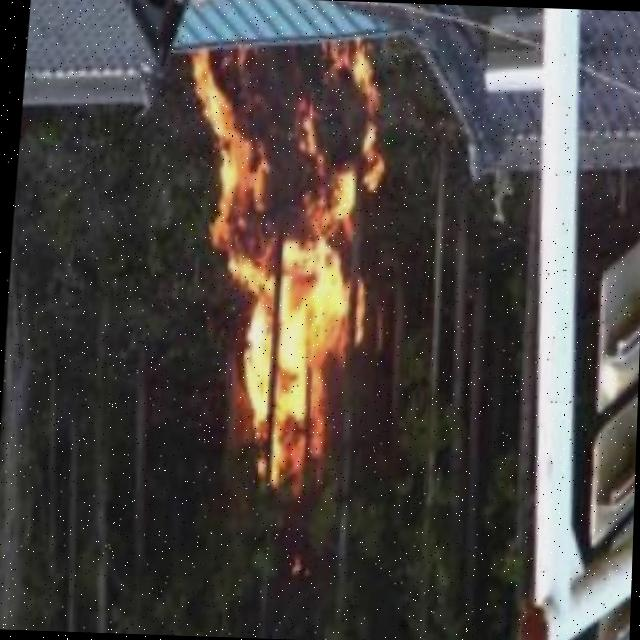fire: (171, 39, 385, 520)
